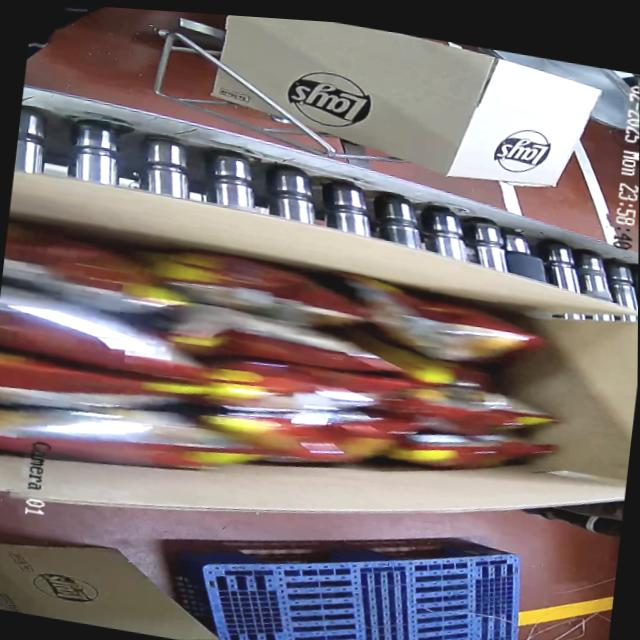MASALA: (0, 211, 570, 541)
